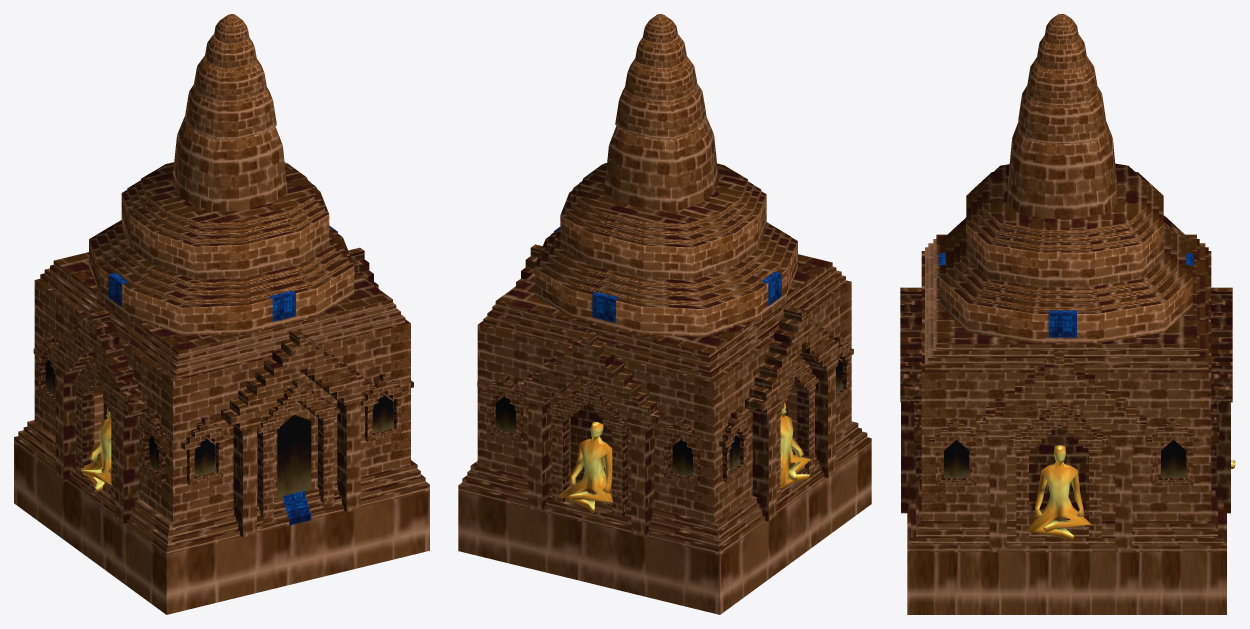
The model's file is cetiya.dae.
3 renders of one model, left to right at view 1: azimuth 30°, elevation 25°; view 2: azimuth 150°, elevation 25°; view 3: azimuth 270°, elevation 25°, orthographic. The views are drawn at different scales.
Visible parts, largest first — view 1: cetiya; view 2: cetiya; view 3: cetiya.
Boxes of the visible parts, left/top/right/bottom form: cetiya: left=14, top=14, right=429, bottom=614; cetiya: left=458, top=14, right=871, bottom=614; cetiya: left=900, top=14, right=1235, bottom=614.
Size of the model in its own units: 19.58 by 19.63 by 34.57.
